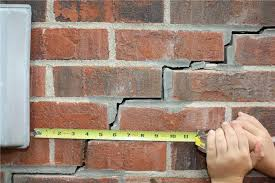stairstep_crack: (105, 23, 272, 129), (9, 138, 87, 182)
